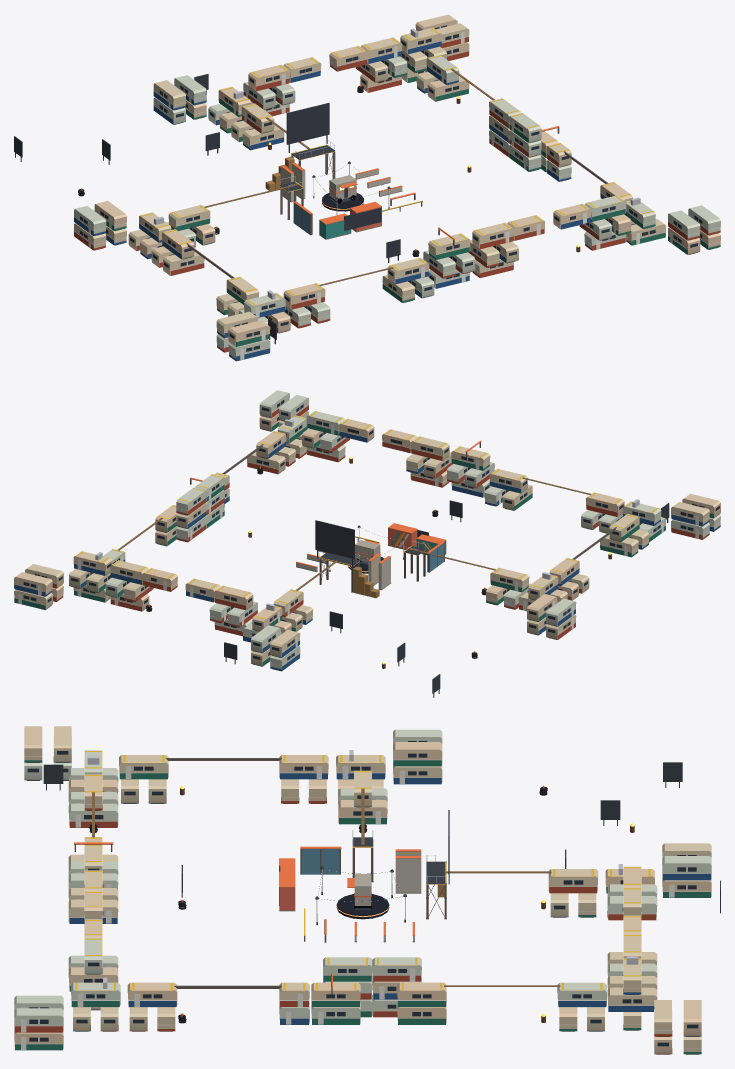
3 views of the same model, one above another, from view 1: azimuth 30°, elevation 25°; view 2: azimuth 150°, elevation 25°; view 3: azimuth 270°, elevation 25° (orthographic). The views are drawn at different scales.
Parts seen in each view (by area): view 1: district_city_vertical.lod1; view 2: district_city_vertical.lod1; view 3: district_city_vertical.lod1.
Part boxes in pixels (x1=…): district_city_vertical.lod1: x1=14, y1=14, x2=720, y2=361; district_city_vertical.lod1: x1=14, y1=390, x2=720, y2=697; district_city_vertical.lod1: x1=14, y1=726, x2=720, y2=1054.
Size of the model in its own units: 95.85 by 12.95 by 97.09.
